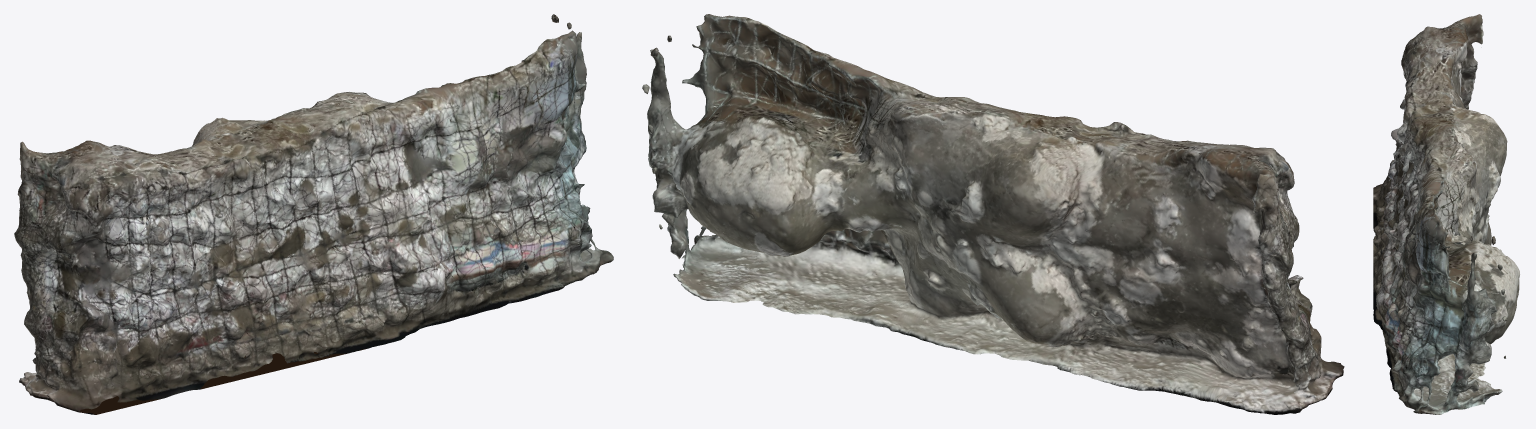
Rendered from FA-006-original.glb.
3 renders of one model, left to right at view 1: azimuth 30°, elevation 25°; view 2: azimuth 150°, elevation 25°; view 3: azimuth 270°, elevation 25°, orthographic. The views are drawn at different scales.
Parts seen in each view (by area): view 1: 3DModel; view 2: 3DModel; view 3: 3DModel.
Part boxes in pixels (x1=…): 3DModel: x1=14, y1=14, x2=613, y2=414; 3DModel: x1=642, y1=14, x2=1344, y2=414; 3DModel: x1=1373, y1=14, x2=1519, y2=414.
Size of the model in its own units: 1.08 by 0.4036 by 0.2939.
1 material, 1 textured.
